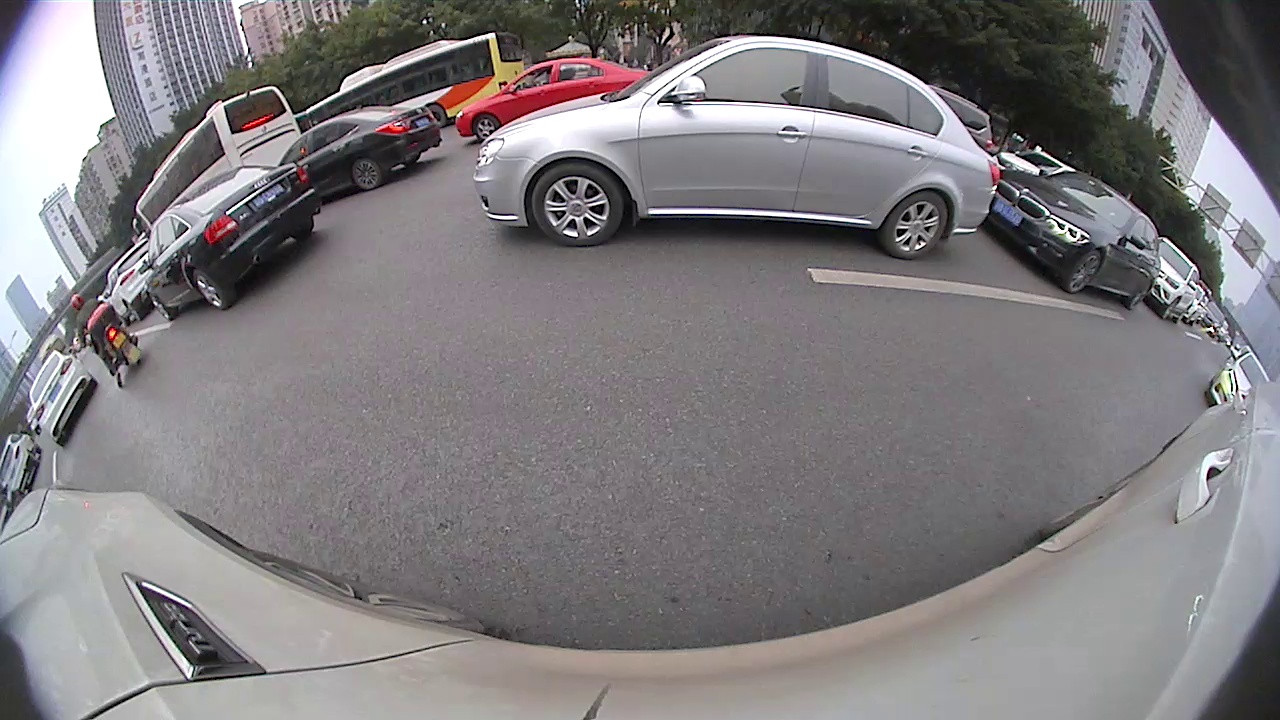bus: (130, 85, 303, 245), (293, 32, 529, 127)
car: (472, 34, 1001, 261), (139, 164, 323, 323), (988, 169, 1162, 310), (453, 55, 652, 145), (276, 103, 443, 202), (26, 349, 100, 446), (1148, 235, 1202, 323), (0, 432, 43, 497)
front: (531, 163, 625, 247), (1065, 250, 1102, 295), (474, 114, 499, 142), (151, 296, 172, 322)
rear: (883, 190, 948, 259), (191, 267, 229, 312), (349, 156, 383, 192), (1128, 287, 1151, 312)
rider: (69, 293, 148, 390)
